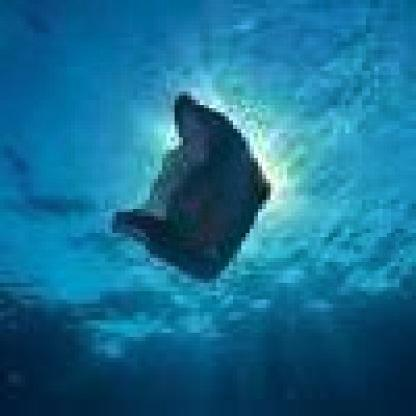pbag: (108, 91, 275, 283)
